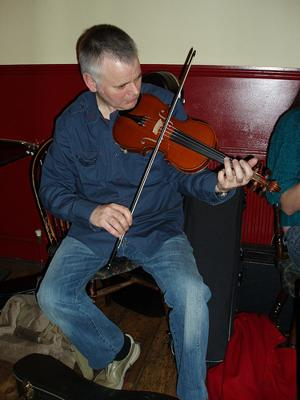person: (36, 24, 259, 400)
